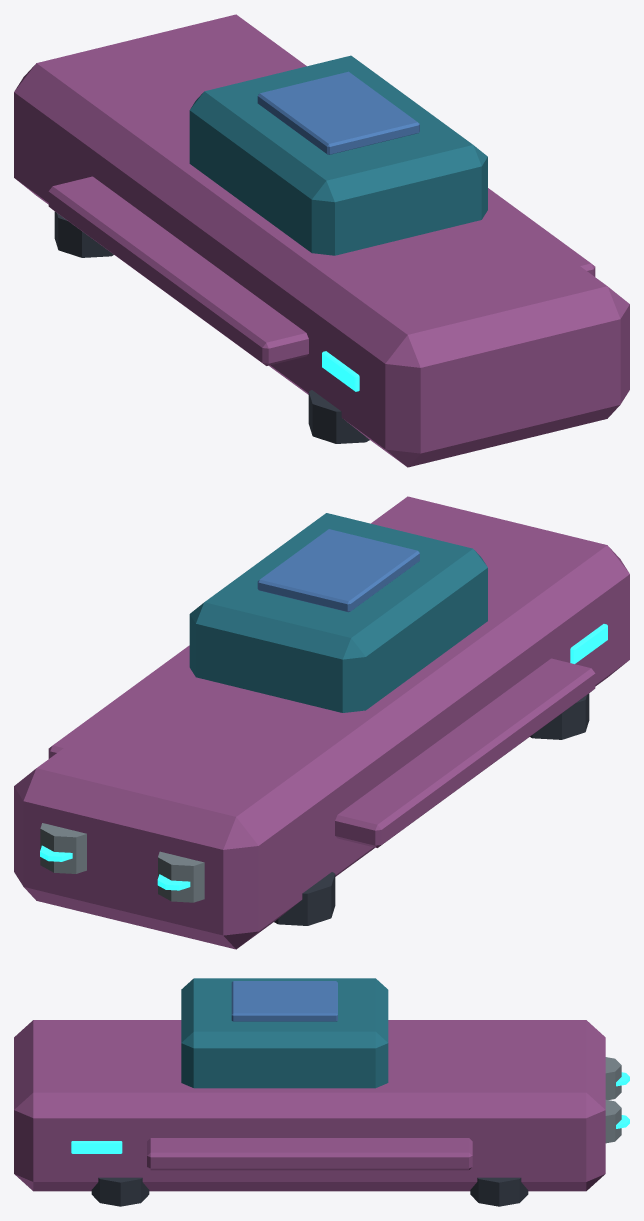
Rendered from vehicles_003_seed100.glb.
3 renders of one model, top to bottom at view 1: azimuth 30°, elevation 25°; view 2: azimuth 150°, elevation 25°; view 3: azimuth 270°, elevation 25°, orthographic. The views are drawn at different scales.
Parts seen in each view (by area): view 1: vehicles_003_seed100; view 2: vehicles_003_seed100; view 3: vehicles_003_seed100.
Part boxes in pixels (x1,y1,x2,y2): vehicles_003_seed100: [14, 14, 629, 467]; vehicles_003_seed100: [14, 496, 629, 949]; vehicles_003_seed100: [14, 978, 629, 1206].
Size of the model in its own units: 2.37 by 1.49 by 5.1.
